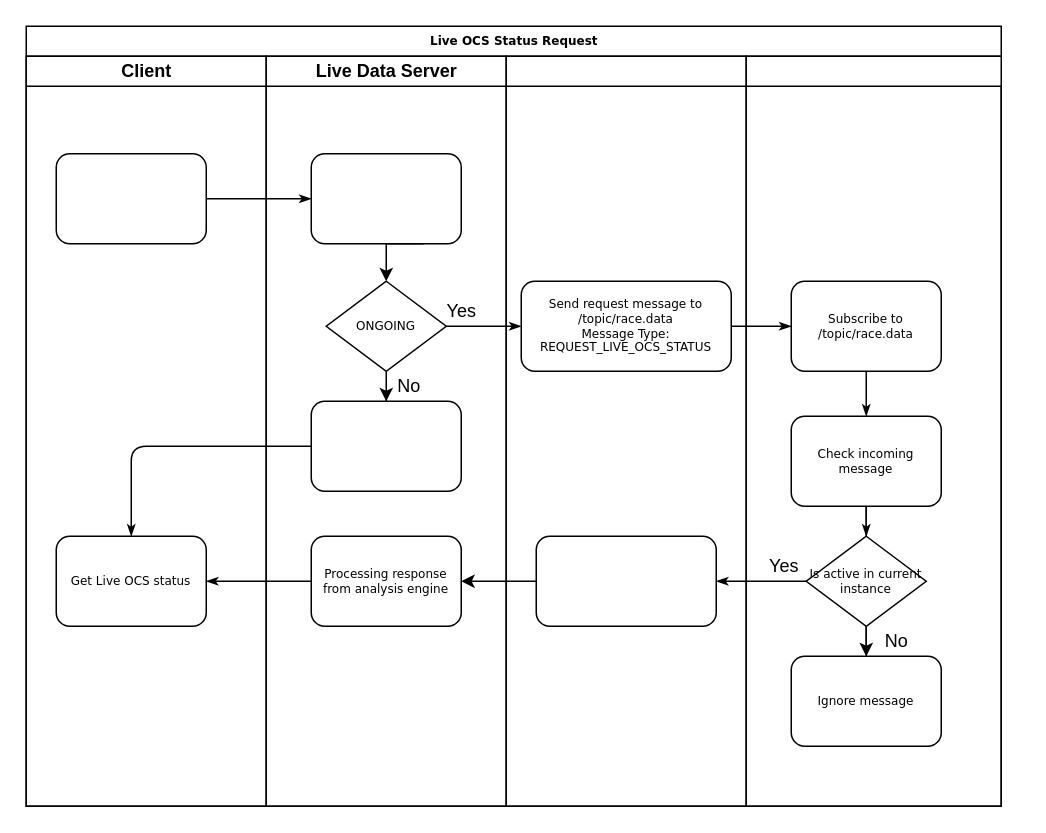
This 1046x833 diagram has some shape labels left out. Here are the shapes that lost their labels. From the top down, the box of each, then its label:
(55, 152, 206, 244): Request for Live OCS status of a competition
(310, 152, 461, 244): Check competition status
(310, 400, 461, 491): Fetch OCS Data from DB
(505, 55, 746, 806): MQ
(745, 55, 1001, 806): Analysis Engines
(535, 535, 716, 626): Send response message to /topic/race.data Message Type: LOG
